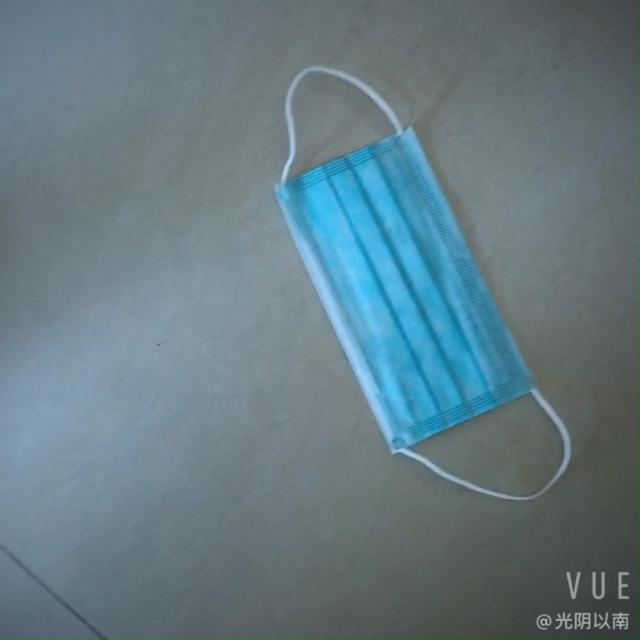face mask: (287, 120, 544, 485)
